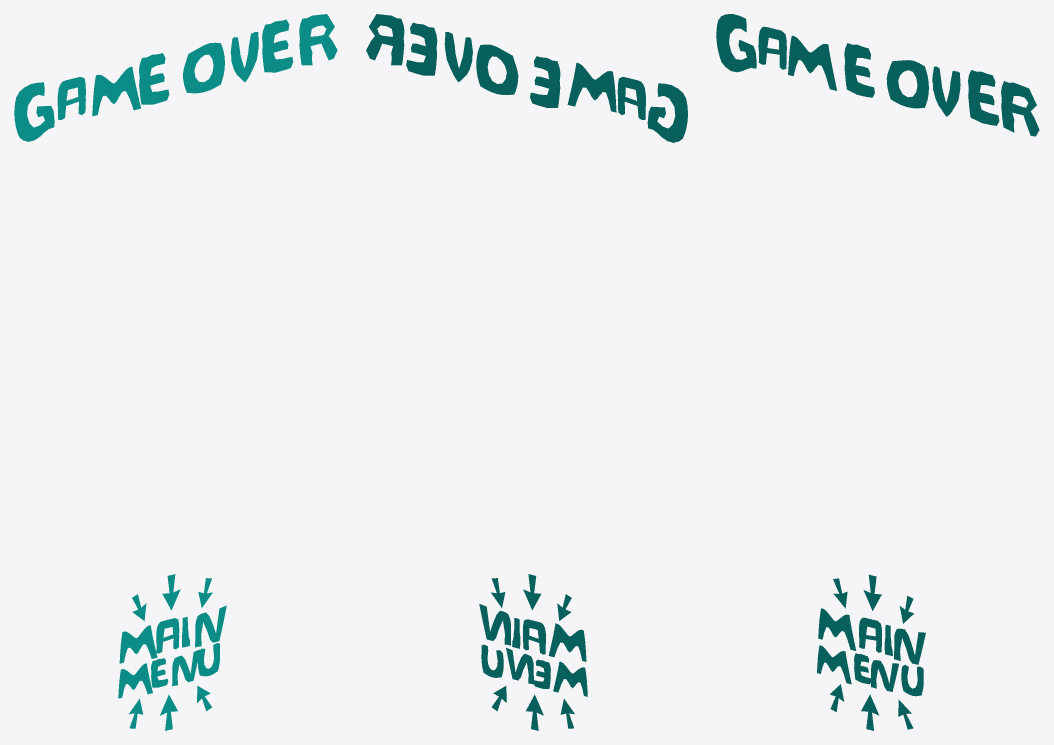
The model's file is mesh_text_gameover.fbx.
3 views of the same model, side by side, from view 1: azimuth 30°, elevation 25°; view 2: azimuth 150°, elevation 25°; view 3: azimuth 330°, elevation 25° (orthographic).
Parts seen in each view (by area): view 1: mesh_text_gameover, mesh_text_mainmenu, mesh_start_arrows1; view 2: mesh_text_gameover, mesh_text_mainmenu, mesh_start_arrows1; view 3: mesh_text_gameover, mesh_text_mainmenu, mesh_start_arrows1.
Boxes of the visible parts, x1,y1,x2,y2 form: mesh_text_gameover: (14, 14, 337, 141); mesh_text_mainmenu: (118, 605, 226, 698); mesh_start_arrows1: (129, 574, 212, 730); mesh_text_gameover: (366, 14, 687, 142); mesh_text_mainmenu: (479, 604, 587, 696); mesh_start_arrows1: (491, 574, 574, 730); mesh_text_gameover: (716, 14, 1039, 136); mesh_text_mainmenu: (817, 608, 925, 696); mesh_start_arrows1: (830, 574, 913, 730).
Size of the model in its own units: 0.2218 by 0.4472 by 0.00565.
